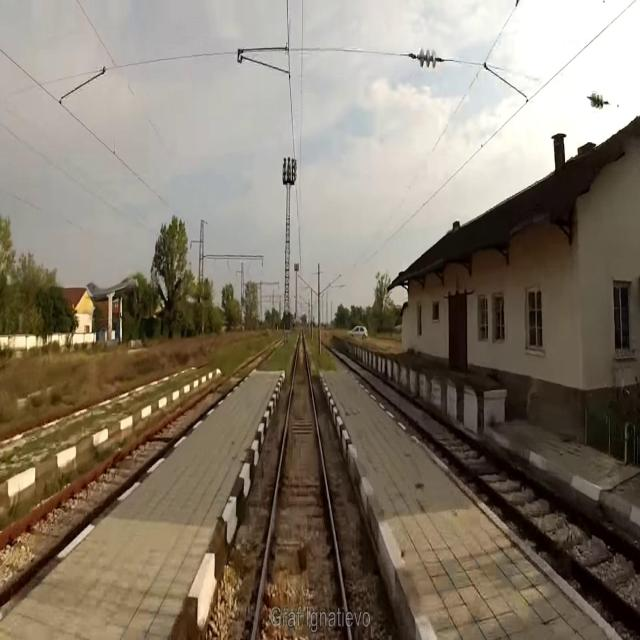rail-track: (338, 351, 640, 609), (0, 348, 271, 588), (255, 332, 347, 639)
